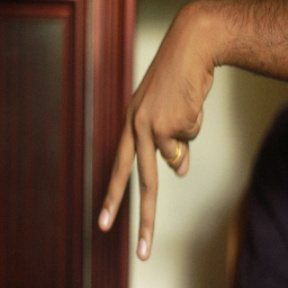Y: (90, 105, 183, 258)
